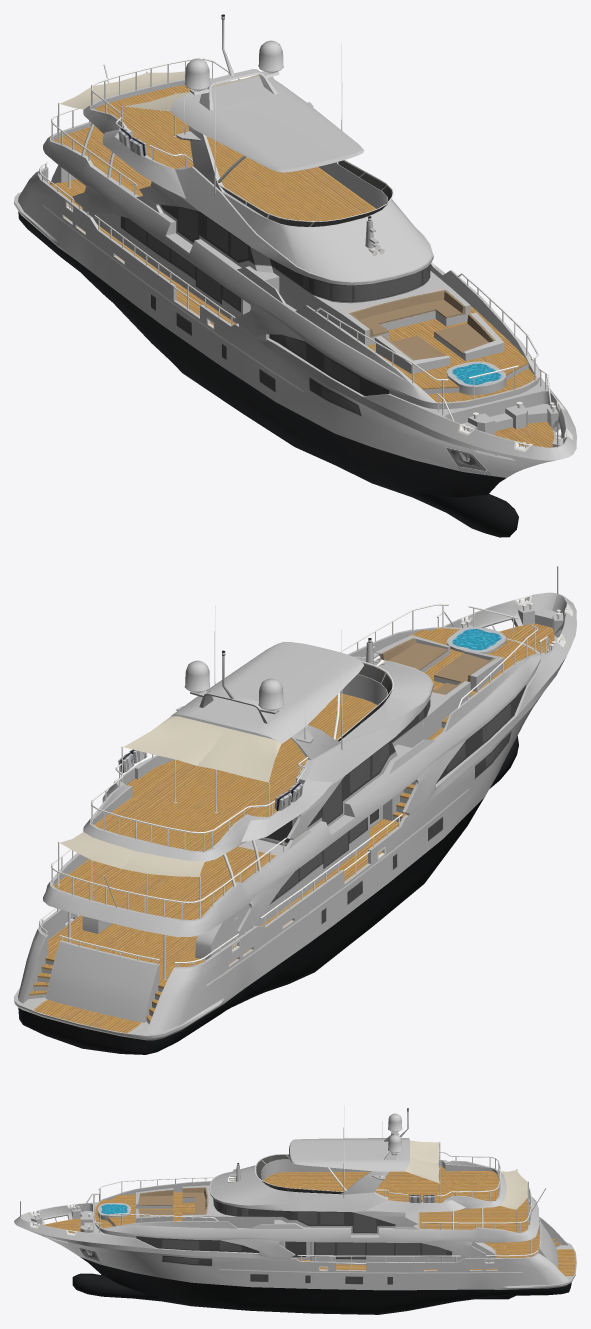
The model's file is yacht.glb.
3 views of the same model, one above another, from view 1: azimuth 30°, elevation 25°; view 2: azimuth 150°, elevation 25°; view 3: azimuth 270°, elevation 25° (orthographic). The views are drawn at different scales.
Visible parts, largest first — view 1: korpus1; view 2: korpus1; view 3: korpus1.
Part boxes in pixels (left/top/right/bottom): korpus1: left=14, top=14, right=576, bottom=537; korpus1: left=14, top=566, right=576, bottom=1054; korpus1: left=14, top=1105, right=576, bottom=1314.
Size of the model in its own units: 8.21 by 15.65 by 40.33.
Materials: 1 (1 with a texture image).
